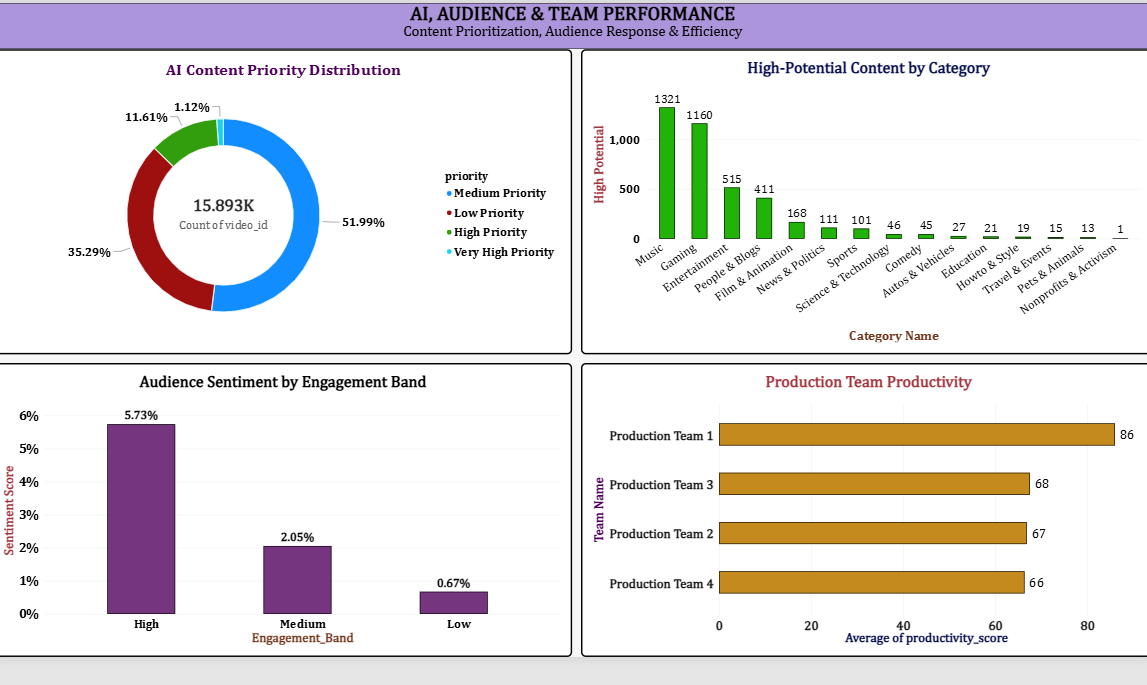

Layout of this report page (visuals, bound fields, positions):
{"tool":"powerbi","page":{"name":"Page 3","canvas":[1920,1080],"ordinal":2},"visuals":[{"type":"textbox","title":"  AI, AUDIENCE & TEAM PERFORMANCE ","box":[0,0,1920.4,76.2],"z":0},{"type":"donutChart","title":"AI Content Priority Distribution","fields":{"Category":["final_ai_scored_videos.priority"],"Y":["Count(final_ai_scored_videos.video_id)"]},"box":[0,76.4,960.2,503.9],"z":1},{"type":"clusteredColumnChart","title":"High-Potential Content by Category","fields":{"Category":["final_ai_scored_videos.Category Name"],"Y":["Sum(final_ai_scored_videos.high_potential)"]},"box":[974.7,76.4,945.8,503.9],"z":2},{"type":"clusteredColumnChart","title":"Audience Sentiment by Engagement Band","fields":{"Category":["audience_feedback.engagement_band"],"Y":["Avg(audience_feedback.sentiment_score)"]},"box":[0,594.7,960.2,485.3],"z":3},{"type":"clusteredBarChart","title":"Production Team Productivity","fields":{"Category":["teams.team_name"],"Y":["Avg(team_productivity.productivity_score)"]},"box":[974.7,594.7,945.8,485.3],"z":4}]}

Visuals, with their boxes on the page's 1920x1080 design canvas (x1, y1, x2, y2). These are canvas units, not pixel positions in the 1147x685 screenshot, which may show the page scaled, cropped or inside an application window:
"  AI, AUDIENCE & TEAM PERFORMANCE " textbox: (0,0,1920,76)
"AI Content Priority Distribution" donutChart: (0,76,960,580)
"High-Potential Content by Category" clusteredColumnChart: (975,76,1920,580)
"Audience Sentiment by Engagement Band" clusteredColumnChart: (0,595,960,1080)
"Production Team Productivity" clusteredBarChart: (975,595,1920,1080)
